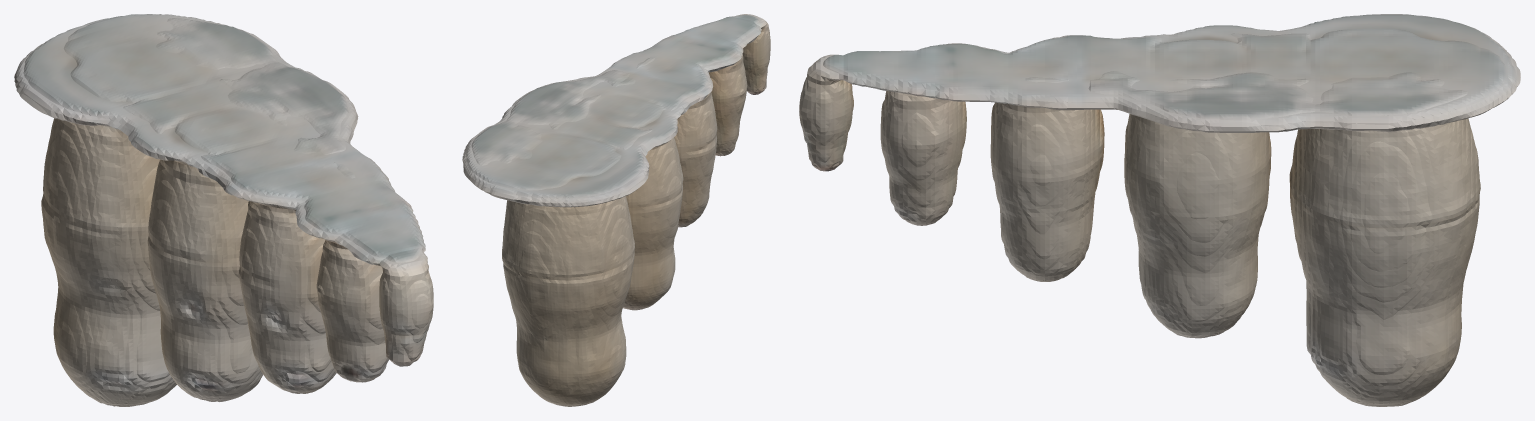
Rendered from nesting.glb.
3 renders of one model, left to right at view 1: azimuth 30°, elevation 25°; view 2: azimuth 150°, elevation 25°; view 3: azimuth 270°, elevation 25°, orthographic. The views are drawn at different scales.
Size of the model in its own units: 0.4286 by 0.5791 by 1.08.
